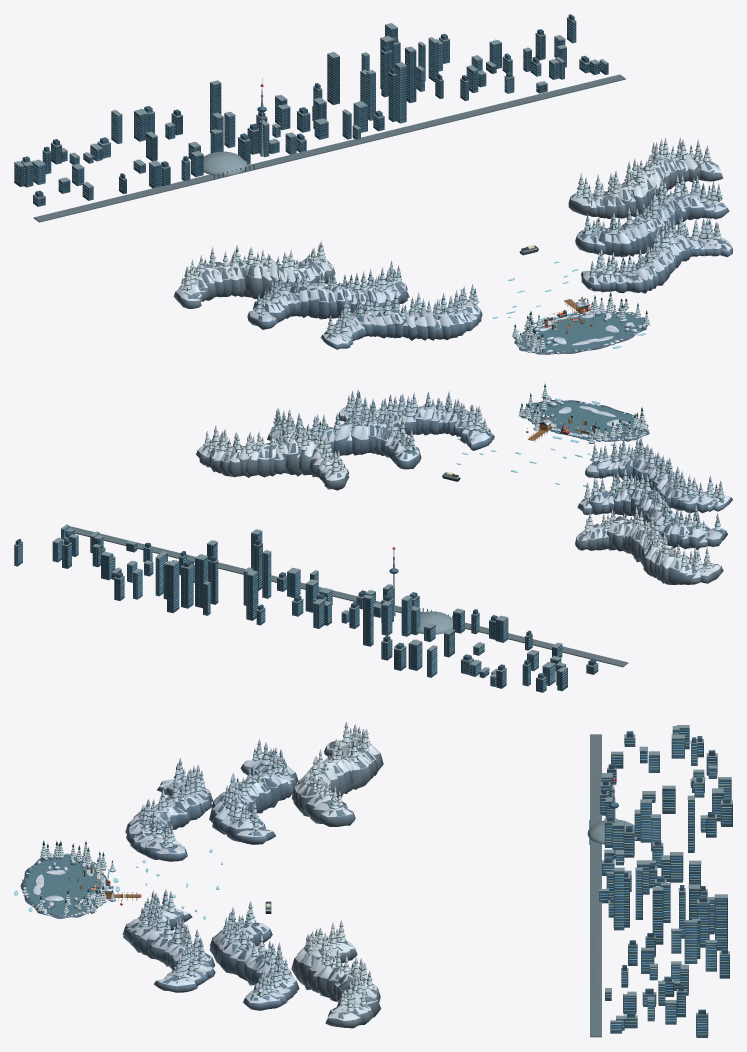
Rendered from lake-america.glb.
The picture shows the model from 3 angles, top to bottom: view 1: azimuth 30°, elevation 25°; view 2: azimuth 150°, elevation 25°; view 3: azimuth 270°, elevation 25°; orthographic projection. The views are drawn at different scales.
Visible parts, largest first — view 1: 04 Toronto skyline_city.003, 04 Toronto skyline_trim.003, 04 Toronto skyline_glass.003, 03 Headland -1 0_snow.003, 03 Headland 1 0_snow.003, 03 Headland 1 2_snow.003, 03 Headland -1 1_snow.003, 03 Headland 1 1_snow.003, 03 Headland -1 2_snow.003, 04 Toronto skyline_window.003, 03 Headland -1 2_rock.003, 03 Headland 1 2_rock.003 (+14 smaller); view 2: 04 Toronto skyline_city.003, 04 Toronto skyline_trim.003, 04 Toronto skyline_glass.003, 03 Headland 1 2_snow.003, 03 Headland -1 0_snow.003, 03 Headland 1 2_rock.003, 03 Headland 1 0_snow.003, 03 Headland -1 1_snow.003, 03 Headland -1 2_snow.003, 03 Headland 1 1_snow.003, 03 Headland -1 2_rock.003, 04 Toronto skyline_window.003 (+13 smaller); view 3: 04 Toronto skyline_city.003, 04 Toronto skyline_trim.003, 04 Toronto skyline_window.003, 03 Headland 1 2_snow.003, 03 Headland 1 0_snow.003, 03 Headland 1 1_snow.003, 03 Headland -1 1_snow.003, 03 Headland -1 0_snow.003, 03 Headland -1 2_snow.003, 01 Fighting shelf_slate.003, 03 Headland -1 2_rock.003, 03 Headland 1 2_rock.003 (+13 smaller).
Part boxes in pixels (box(x1,y1,x2,y2)): 04 Toronto skyline_city.003: box(14, 14, 608, 206); 04 Toronto skyline_trim.003: box(14, 17, 625, 222); 04 Toronto skyline_glass.003: box(20, 24, 608, 203); 03 Headland -1 0_snow.003: box(323, 284, 480, 344); 03 Headland 1 0_snow.003: box(582, 215, 731, 284); 03 Headland 1 2_snow.003: box(570, 137, 721, 207); 03 Headland -1 1_snow.003: box(249, 261, 407, 321); 03 Headland 1 1_snow.003: box(577, 174, 727, 245); 03 Headland -1 2_snow.003: box(175, 241, 333, 300); 04 Toronto skyline_window.003: box(14, 21, 604, 202); 03 Headland -1 2_rock.003: box(173, 258, 335, 308); 03 Headland 1 2_rock.003: box(568, 153, 723, 218); 04 Toronto skyline_city.003: box(14, 526, 598, 692); 04 Toronto skyline_trim.003: box(14, 524, 628, 690); 04 Toronto skyline_glass.003: box(14, 530, 592, 689); 03 Headland 1 2_snow.003: box(198, 423, 347, 480); 03 Headland -1 0_snow.003: box(586, 438, 730, 507); 03 Headland 1 2_rock.003: box(196, 438, 349, 490); 03 Headland 1 0_snow.003: box(340, 389, 492, 444); 03 Headland -1 1_snow.003: box(579, 468, 725, 542); 03 Headland -1 2_snow.003: box(576, 507, 721, 578); 03 Headland 1 1_snow.003: box(269, 407, 419, 461); 03 Headland -1 2_rock.003: box(575, 516, 723, 584); 04 Toronto skyline_window.003: box(18, 530, 598, 688); 04 Toronto skyline_city.003: box(599, 728, 732, 1037); 04 Toronto skyline_trim.003: box(590, 725, 732, 1037); 04 Toronto skyline_window.003: box(599, 729, 731, 1034); 03 Headland 1 2_snow.003: box(294, 919, 377, 1020); 03 Headland 1 0_snow.003: box(126, 889, 212, 986); 03 Headland 1 1_snow.003: box(212, 901, 296, 1003); 03 Headland -1 1_snow.003: box(212, 739, 295, 836); 03 Headland -1 0_snow.003: box(128, 758, 210, 853); 03 Headland -1 2_snow.003: box(294, 721, 380, 817); 01 Fighting shelf_slate.003: box(23, 853, 101, 915); 03 Headland -1 2_rock.003: box(291, 740, 383, 826); 03 Headland 1 2_rock.003: box(291, 941, 380, 1028).
Bounding box in the file's own units: 238 × 34.22 × 239.
Materials: 38 (3 with a texture image).
